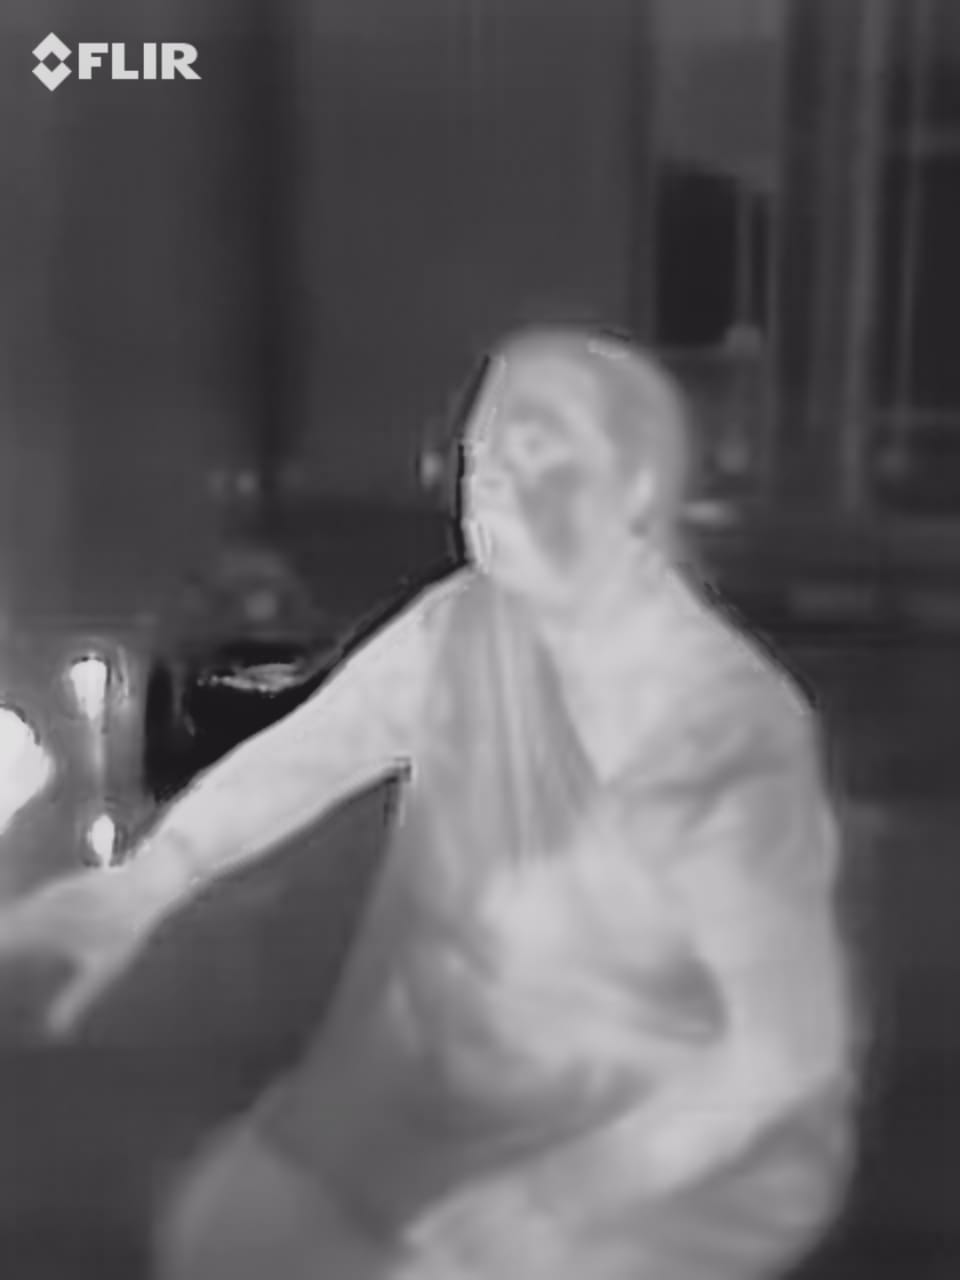head: (440, 329, 692, 618)
